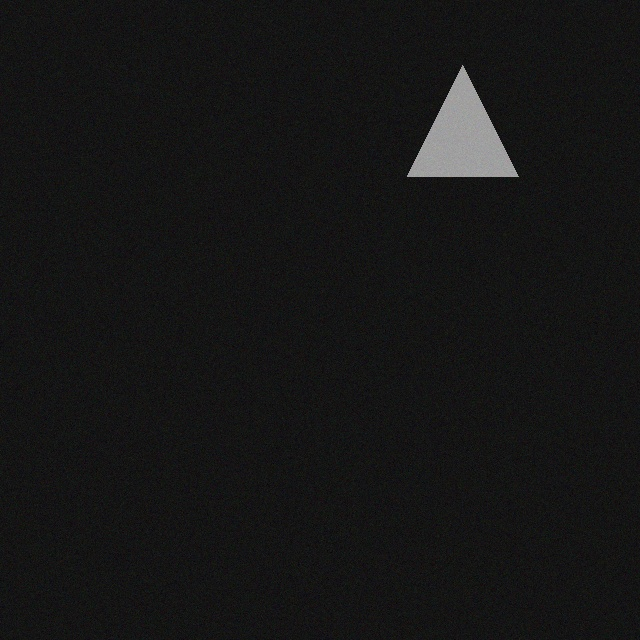triangle: (400, 67, 511, 178)
